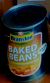beans: (2, 2, 49, 83)
